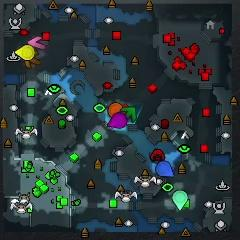p1: (156, 160, 173, 176)
p2: (173, 191, 187, 210)
p3: (106, 113, 128, 128)
p4: (16, 45, 35, 60)
p5: (107, 102, 122, 115)
x1: (28, 36, 45, 49)
x4: (121, 106, 136, 122)
x5: (23, 53, 40, 67)
